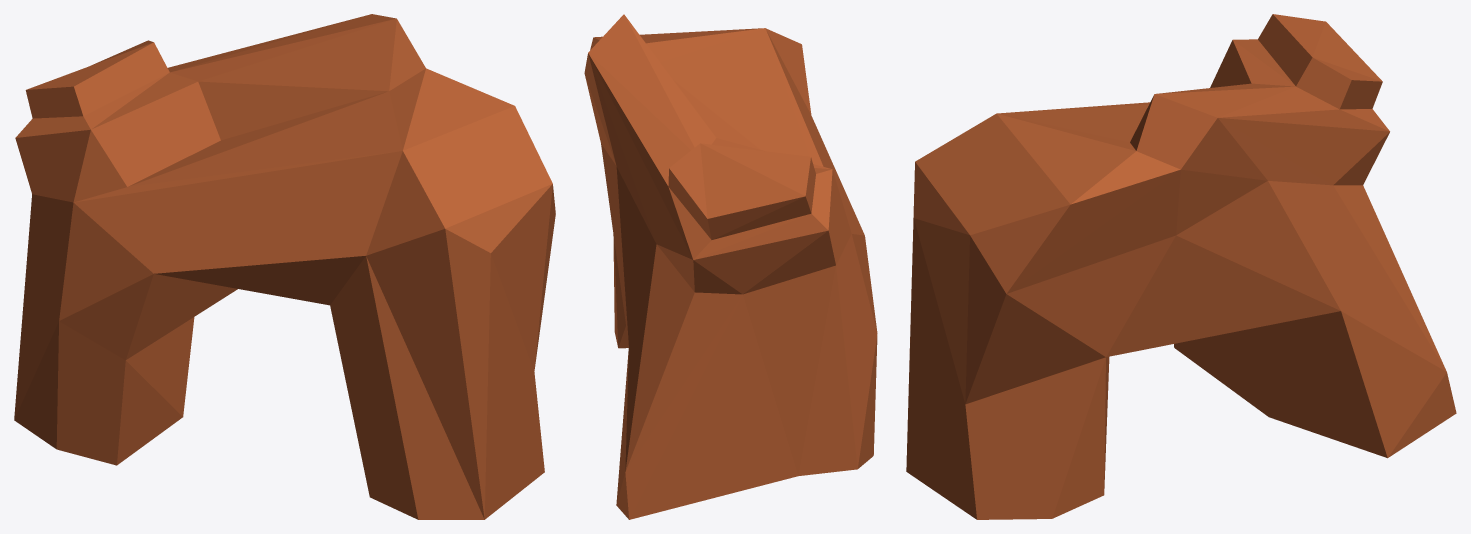
Rendered from BigRock2Collider.fbx.
3 views of the same model, side by side, from view 1: azimuth 30°, elevation 25°; view 2: azimuth 150°, elevation 25°; view 3: azimuth 270°, elevation 25° (orthographic). The views are drawn at different scales.
Parts seen in each view (by area): view 1: BigRock2Collider; view 2: BigRock2Collider; view 3: BigRock2Collider.
Boxes of the visible parts, x1,y1,x2,y2 form: BigRock2Collider: (14,14,555,519); BigRock2Collider: (584,14,877,519); BigRock2Collider: (906,14,1456,519).
Size of the model in its own units: 30.9 by 30.93 by 36.98.
